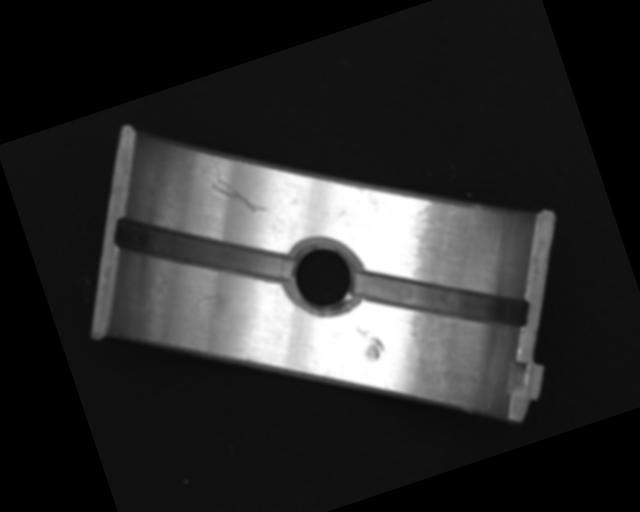bruise: (354, 320, 387, 366)
gap: (107, 172, 295, 327), (353, 224, 532, 371)
hole: (274, 232, 368, 326)
nick: (209, 167, 267, 228), (195, 292, 222, 305)
